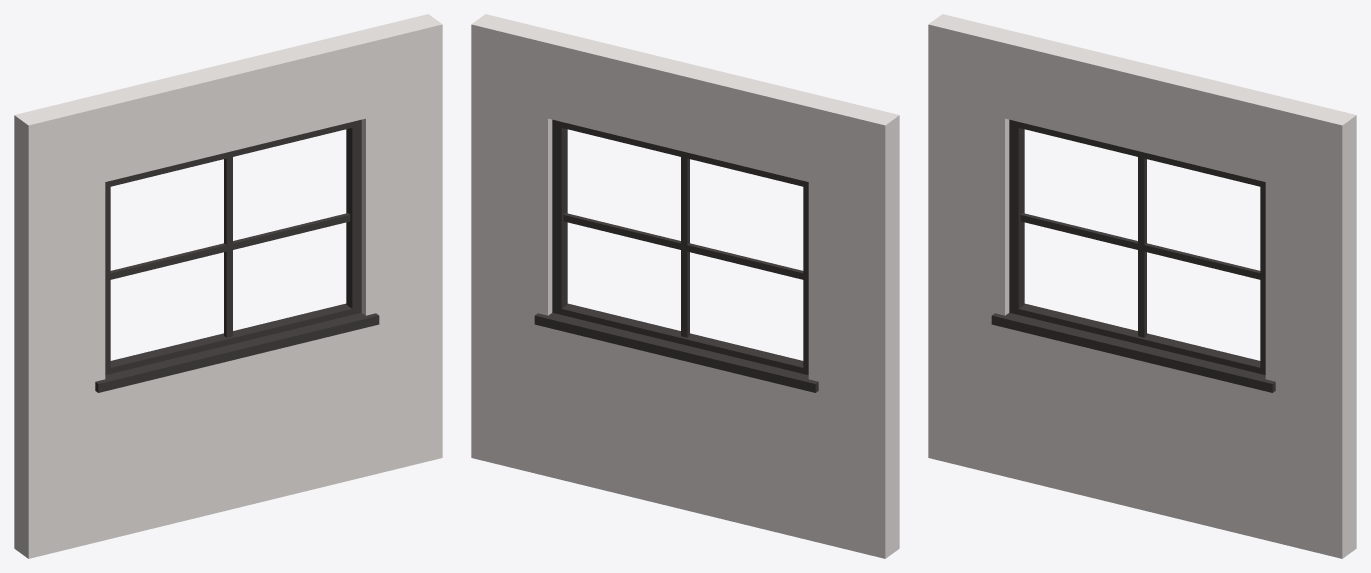
File: Wall_10.fbx
3 renders of one model, left to right at view 1: azimuth 30°, elevation 25°; view 2: azimuth 150°, elevation 25°; view 3: azimuth 330°, elevation 25°, orthographic.
Parts seen in each view (by area): view 1: Wall_10; view 2: Wall_10; view 3: Wall_10.
Boxes of the visible parts, x1=… form: Wall_10: x1=14, y1=14, x2=442, y2=558; Wall_10: x1=471, y1=14, x2=899, y2=558; Wall_10: x1=928, y1=14, x2=1356, y2=558.
Bounding box in the file's own units: 259 × 259 × 22.34.
